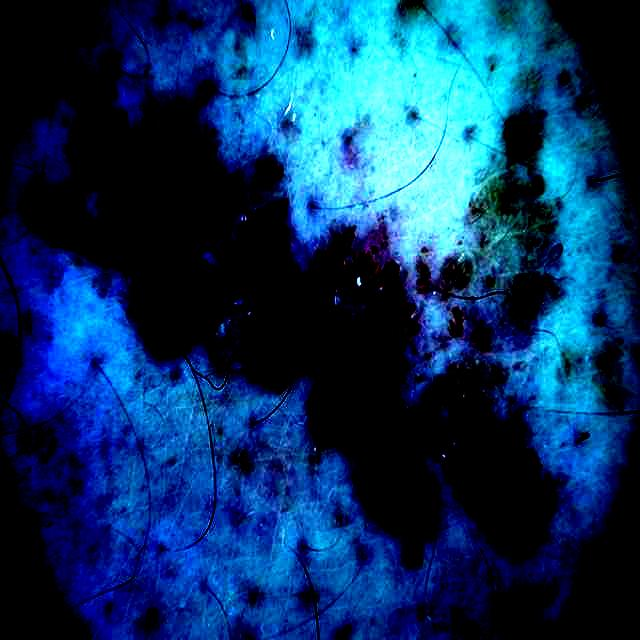BKL: (60, 105, 560, 551)
